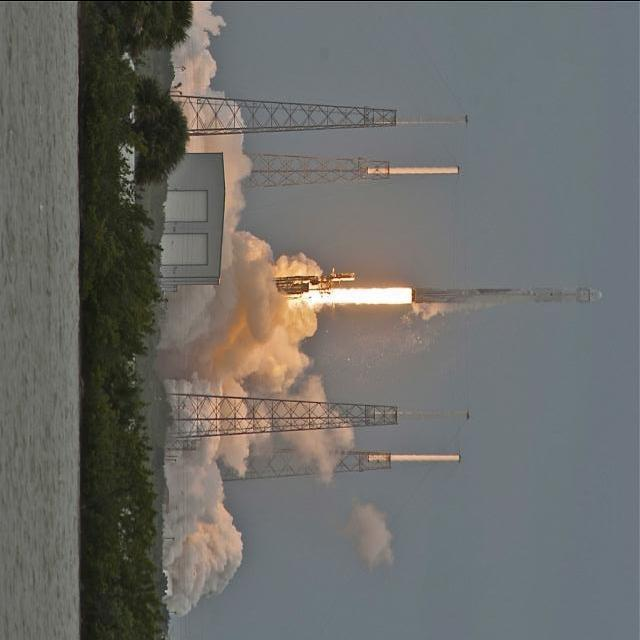missile: (413, 283, 603, 307)
